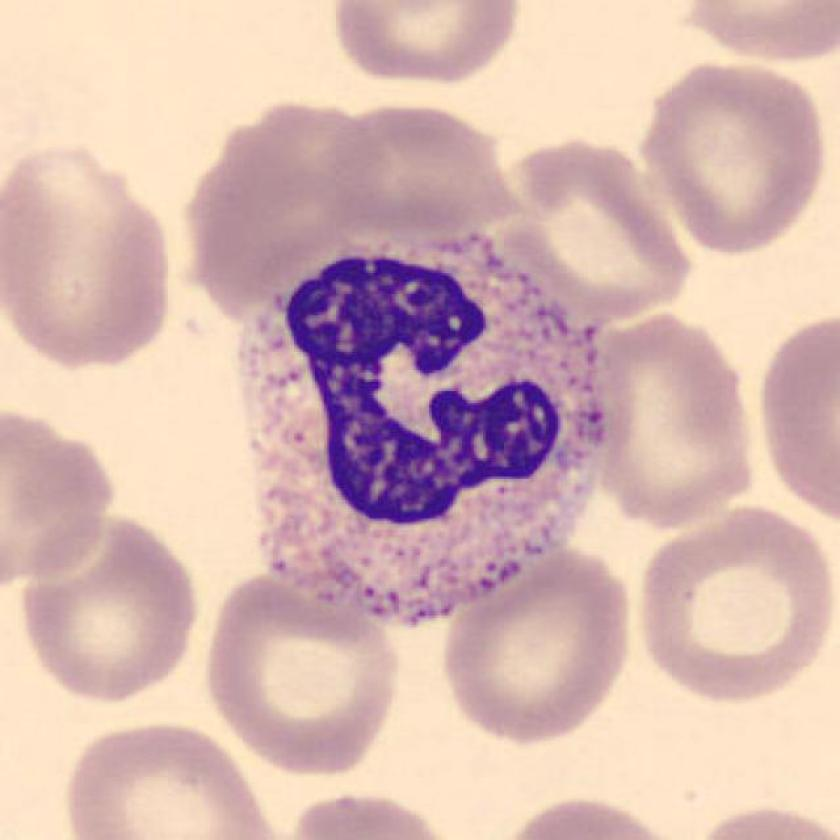neutrophil: (240, 228, 607, 624)
